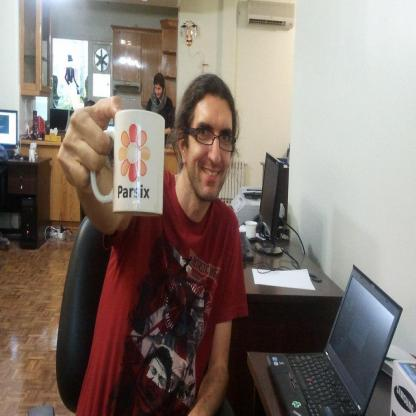board: (250, 272, 398, 416)
